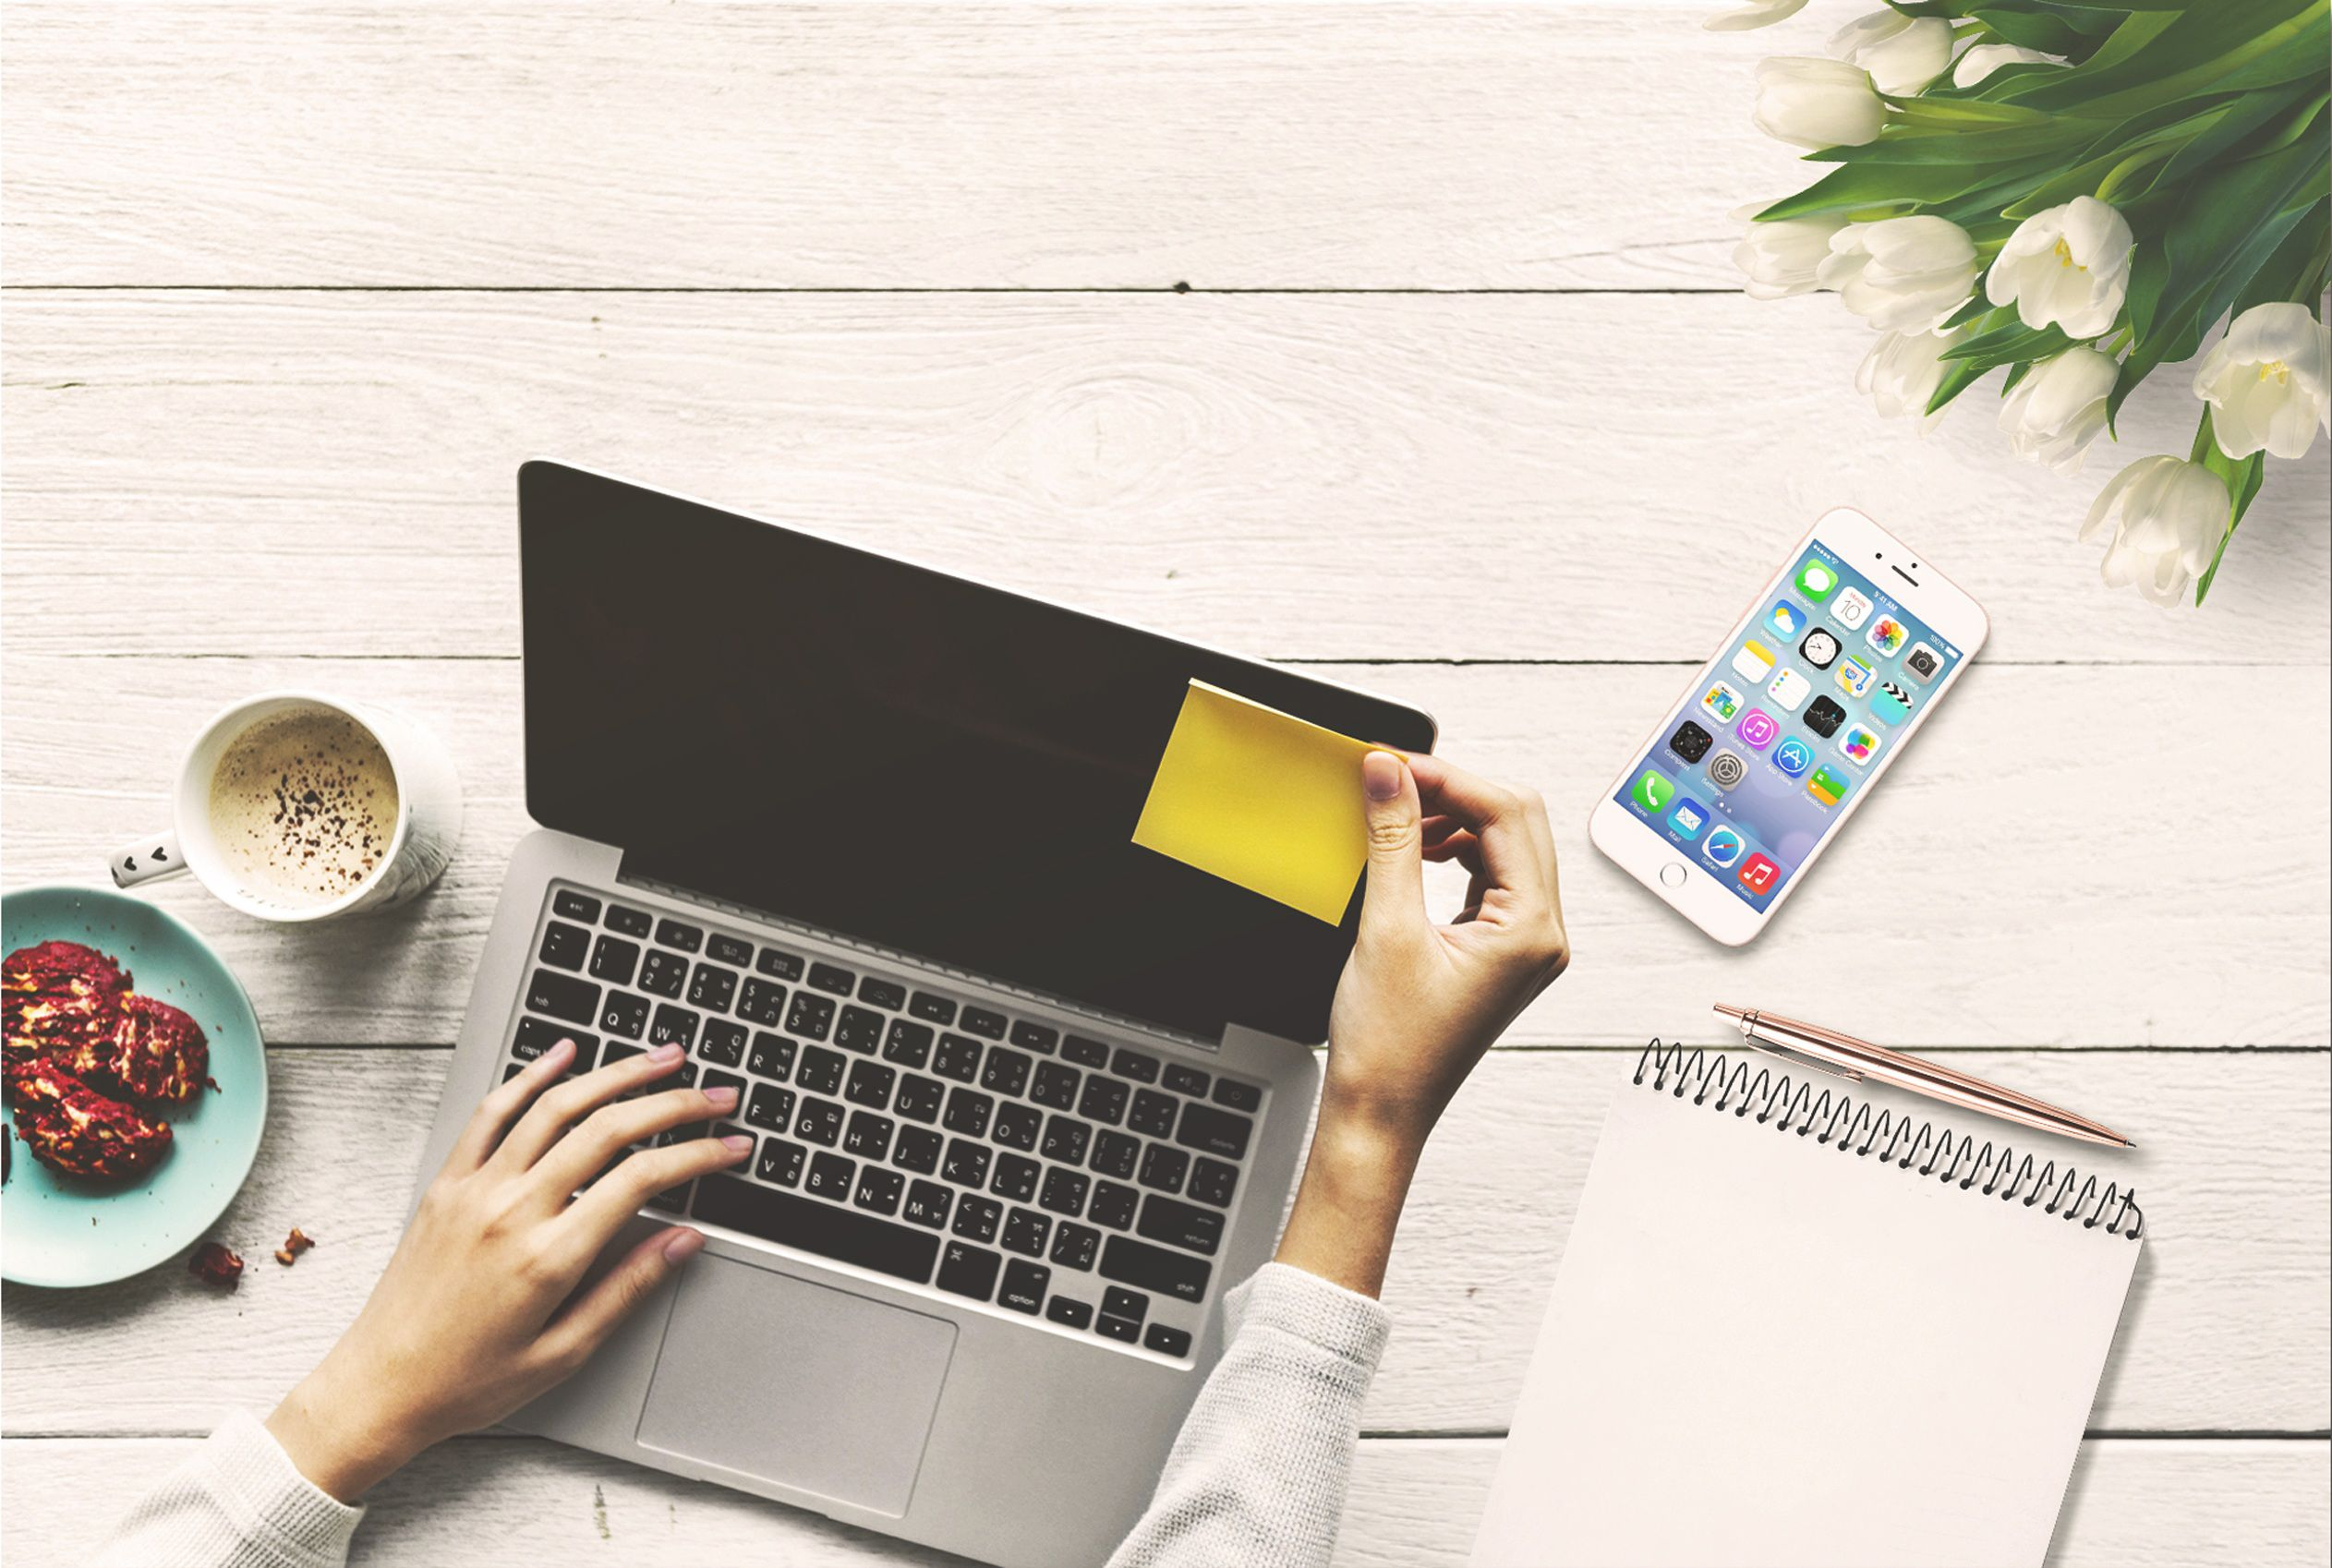Note: (1135, 679, 1403, 936)
